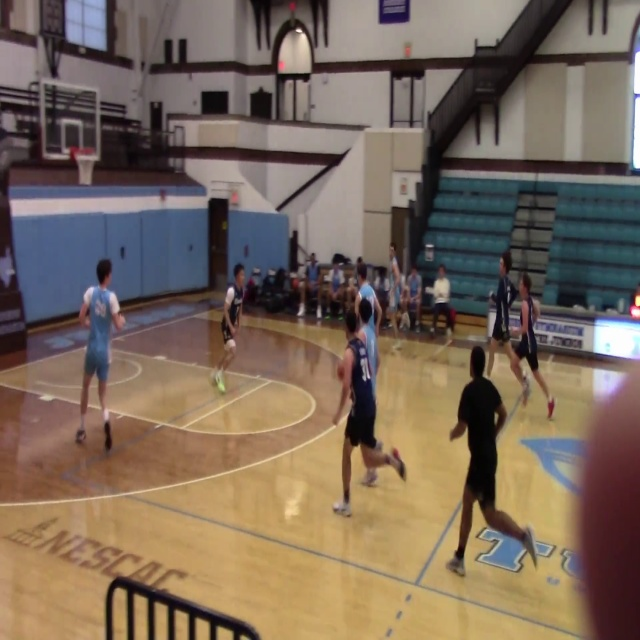Basketball: (358, 298, 373, 320), (336, 361, 345, 380)
